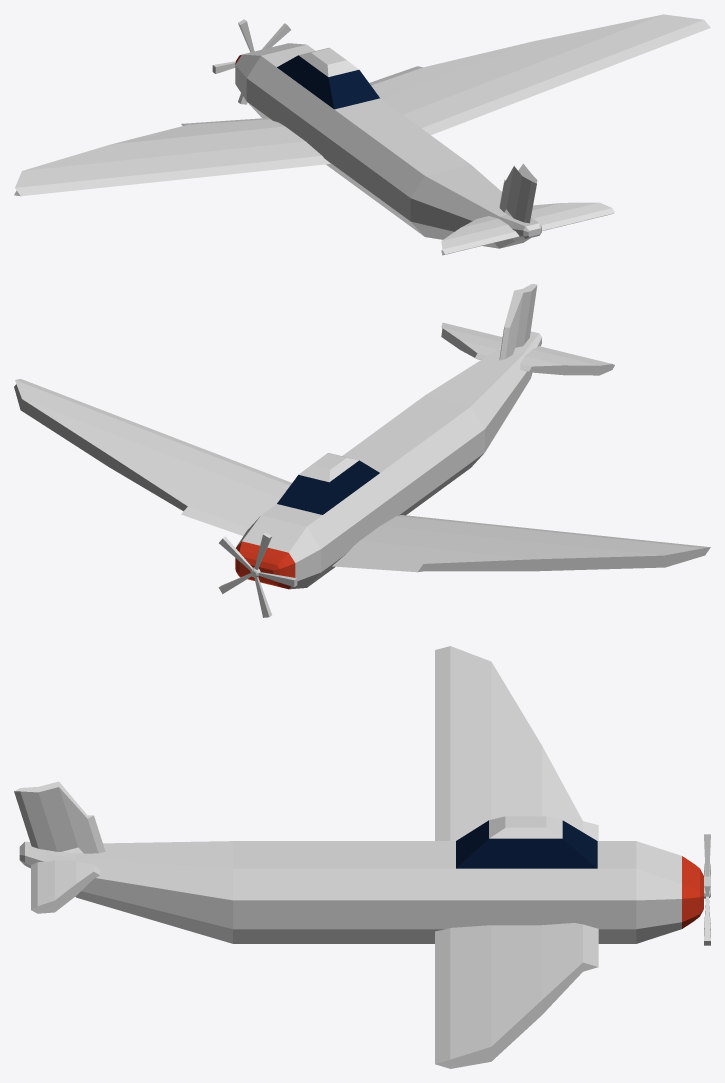
Rendered from REALPLANE.fbx.
3 views of the same model, one above another, from view 1: azimuth 30°, elevation 25°; view 2: azimuth 150°, elevation 25°; view 3: azimuth 270°, elevation 25° (orthographic). The views are drawn at different scales.
Visible parts, largest first — view 1: Cylinder, Cylinder.004, Cylinder.005, Cylinder.003, Cylinder.002, Cylinder.001, Cylinder.006; view 2: Cylinder, Cylinder.004, Cylinder.005, Cylinder.003, Cylinder.001, Cylinder.006, Cylinder.002; view 3: Cylinder, Cylinder.005, Cylinder.004, Cylinder.001, Cylinder.002, Cylinder.006.
Boxes of the visible parts, left/top/right/bottom form: Cylinder: left=235, top=43, right=541, bottom=248; Cylinder.004: left=369, top=14, right=710, bottom=134; Cylinder.005: left=14, top=118, right=330, bottom=196; Cylinder.003: left=441, top=216, right=519, bottom=255; Cylinder.002: left=531, top=202, right=614, bottom=230; Cylinder.001: left=499, top=163, right=537, bottom=223; Cylinder.006: left=212, top=19, right=290, bottom=104; Cylinder: left=235, top=331, right=541, bottom=589; Cylinder.004: left=14, top=379, right=291, bottom=535; Cylinder.005: left=332, top=515, right=710, bottom=572; Cylinder.003: left=520, top=346, right=614, bottom=375; Cylinder.001: left=499, top=284, right=537, bottom=360; Cylinder.006: left=218, top=532, right=297, bottom=617; Cylinder.002: left=441, top=322, right=502, bottom=359; Cylinder: left=19, top=816, right=703, bottom=943; Cylinder.005: left=435, top=646, right=598, bottom=840; Cylinder.004: left=435, top=923, right=598, bottom=1068; Cylinder.001: left=14, top=781, right=105, bottom=853; Cylinder.002: left=31, top=860, right=100, bottom=913; Cylinder.006: left=704, top=834, right=710, bottom=945.
Size of the model in its own units: 1414 by 254 by 1004.
